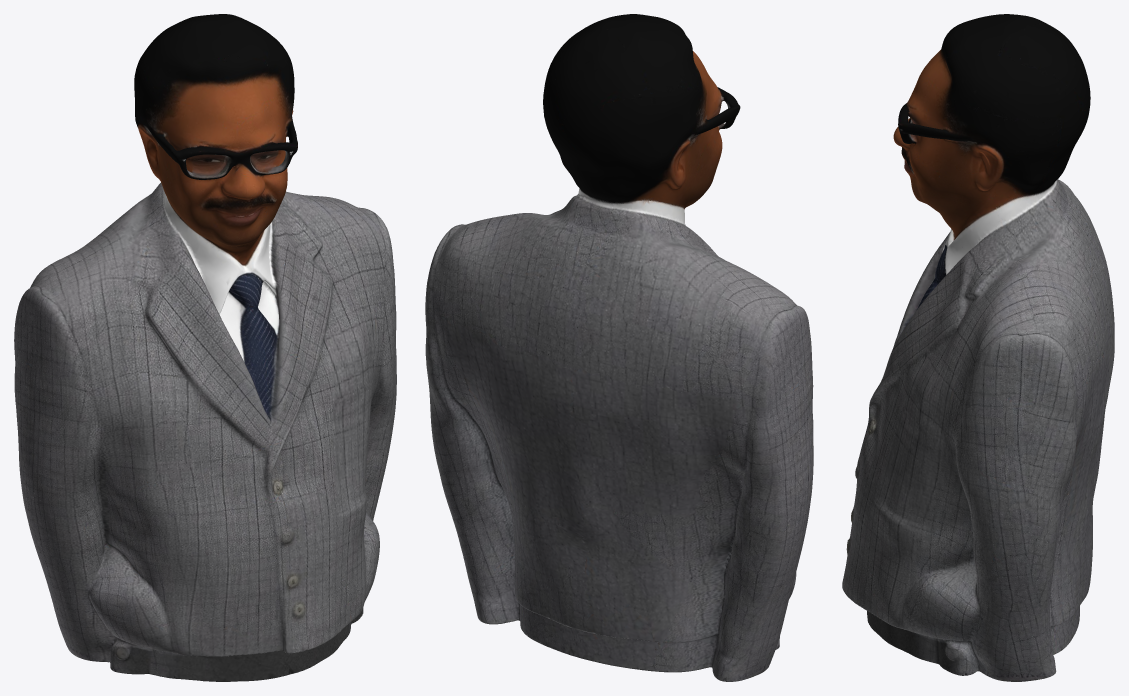
The picture shows the model from 3 angles, left to right: view 1: azimuth 30°, elevation 25°; view 2: azimuth 150°, elevation 25°; view 3: azimuth 270°, elevation 25°; orthographic projection. The views are drawn at different scales.
Visible parts, largest first — view 1: face; view 2: face; view 3: face.
Part boxes in pixels (x1,y1,x2,y2): face: (14,14,396,681); face: (425,14,813,681); face: (842,14,1114,681).
Size of the model in its own units: 1.19 by 1.9 by 0.7899.
1 material, 1 textured.
